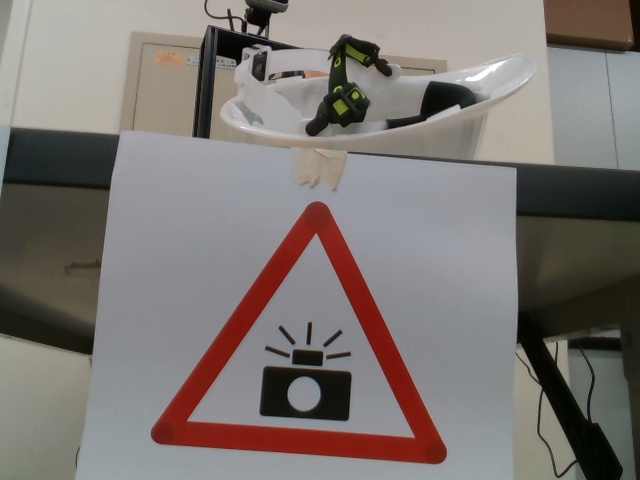camera: (151, 199, 450, 472)
helmet: (218, 32, 539, 162)
